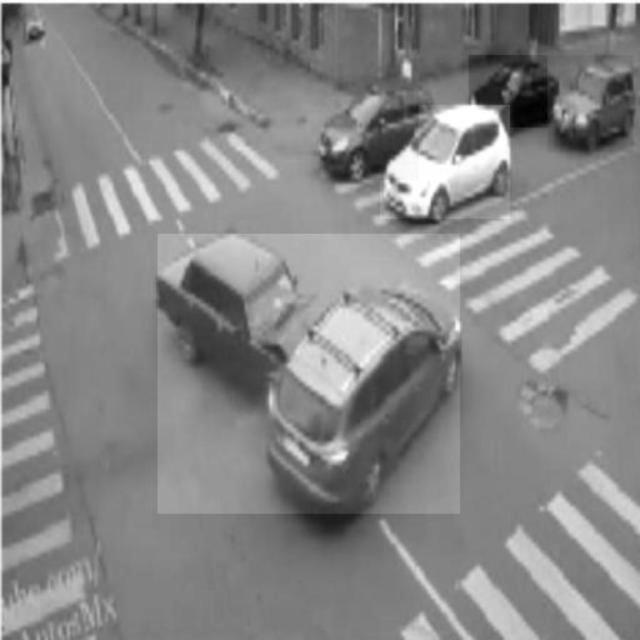accident: (157, 234, 461, 514)
vehicle: (380, 106, 510, 219), (318, 77, 419, 180), (548, 55, 634, 153), (469, 55, 560, 128)
